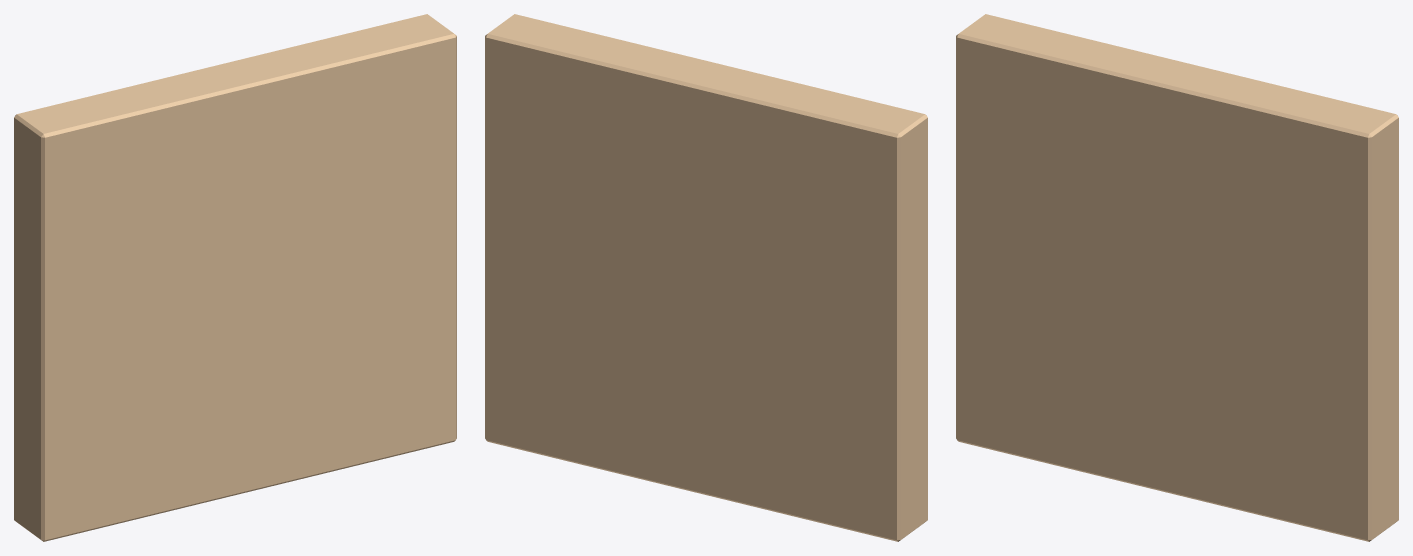
The model's file is back-wall-central.glb.
3 renders of one model, left to right at view 1: azimuth 30°, elevation 25°; view 2: azimuth 150°, elevation 25°; view 3: azimuth 330°, elevation 25°, orthographic.
Visible parts, largest first — view 1: Cube.001; view 2: Cube.001; view 3: Cube.001.
Boxes of the visible parts, left/top/right/bottom form: Cube.001: left=14, top=14, right=456, bottom=541; Cube.001: left=485, top=14, right=927, bottom=541; Cube.001: left=956, top=14, right=1398, bottom=541.
Size of the model in its own units: 1.6 by 1.5 by 0.2.
